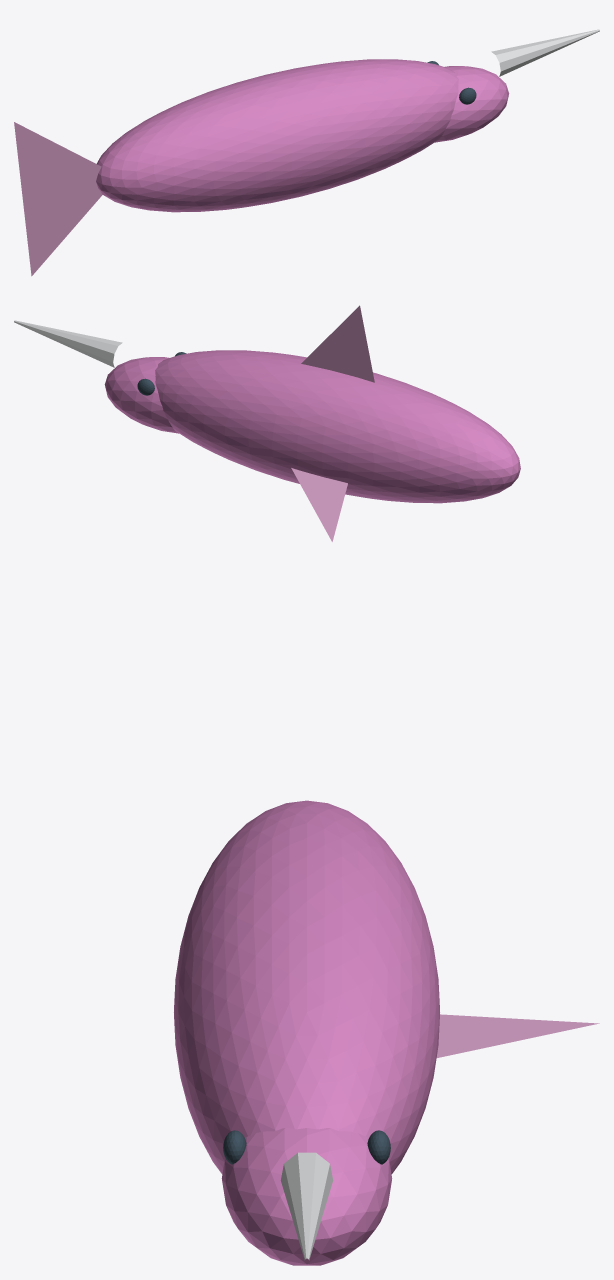
The picture shows the model from 3 angles, top to bottom: view 1: azimuth 30°, elevation 25°; view 2: azimuth 150°, elevation 25°; view 3: azimuth 270°, elevation 25°; orthographic projection. The views are drawn at different scales.
Parts seen in each view (by area): view 1: whale_00, whale_02, whale_01, whale_08; view 2: whale_00, whale_01, whale_03, whale_04, whale_08; view 3: whale_00, whale_01, whale_04, whale_08.
Boxes of the visible parts, box(x1,y1,x2,y2) form: whale_00: box(96, 59, 458, 212); whale_02: box(14, 122, 102, 276); whale_01: box(435, 66, 509, 142); whale_08: box(491, 29, 599, 76); whale_00: box(155, 350, 520, 503); whale_01: box(104, 357, 178, 433); whale_03: box(301, 305, 374, 382); whale_04: box(291, 468, 347, 541); whale_08: box(14, 320, 122, 367); whale_00: box(174, 800, 439, 1173); whale_01: box(221, 1128, 392, 1265); whale_04: box(436, 1014, 599, 1057); whale_08: box(280, 1152, 333, 1260).
Size of the model in its own units: 5 by 1.7 by 2.2.
